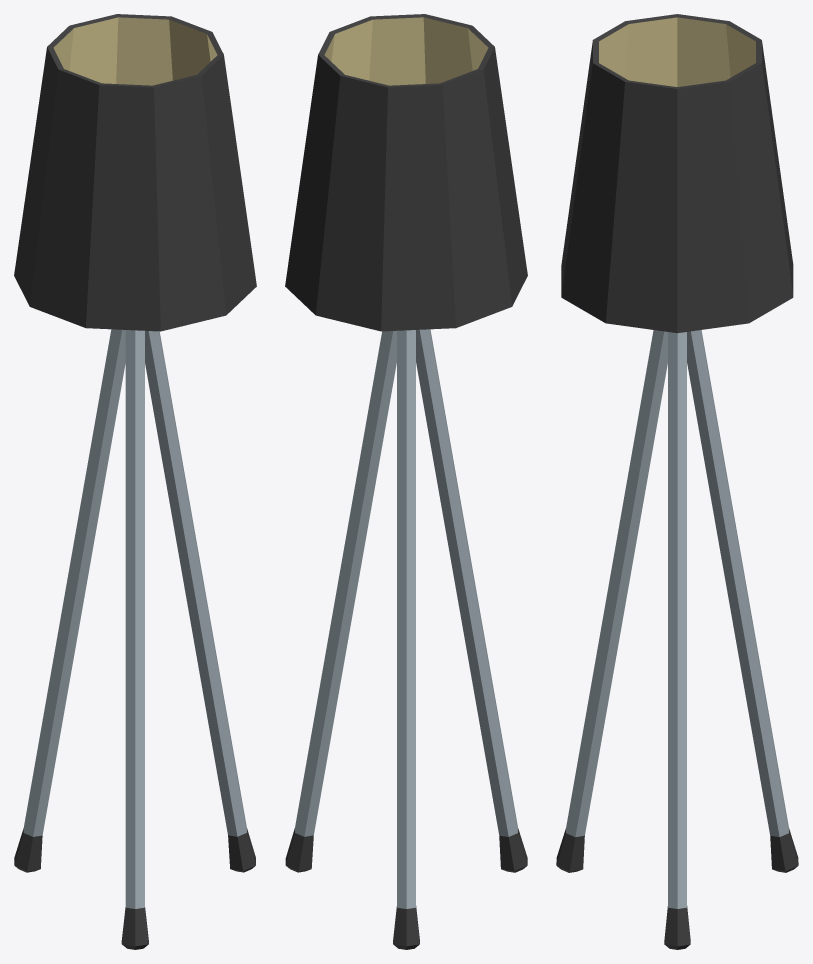
The model's file is Lamp2.fbx.
3 renders of one model, left to right at view 1: azimuth 30°, elevation 25°; view 2: azimuth 150°, elevation 25°; view 3: azimuth 270°, elevation 25°, orthographic.
Parts seen in each view (by area): view 1: Cylinder409; view 2: Cylinder409; view 3: Cylinder409.
Boxes of the visible parts, x1,y1,x2,y2 form: Cylinder409: [14, 14, 256, 949]; Cylinder409: [285, 14, 527, 949]; Cylinder409: [556, 14, 798, 949].
Size of the model in its own units: 47.39 by 169 by 43.92.
